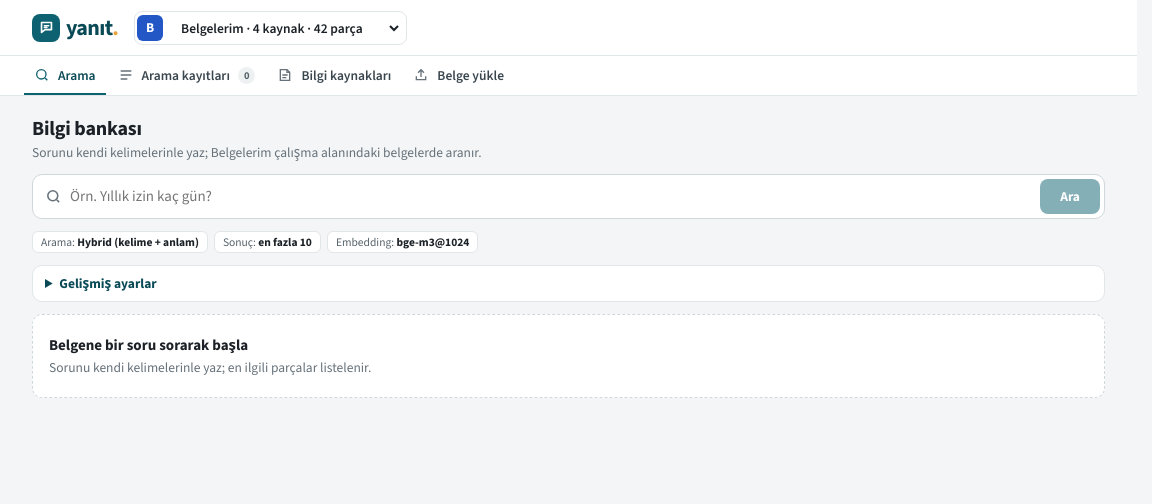
Test: App › givenSearchResult_whenWorkspaceChanged_thenResultIsCleared
In the field named "Arama metni": (551, 196) [70, 180, 1032, 213], type "Yıllık izin kaç gün?"
Then press Enter
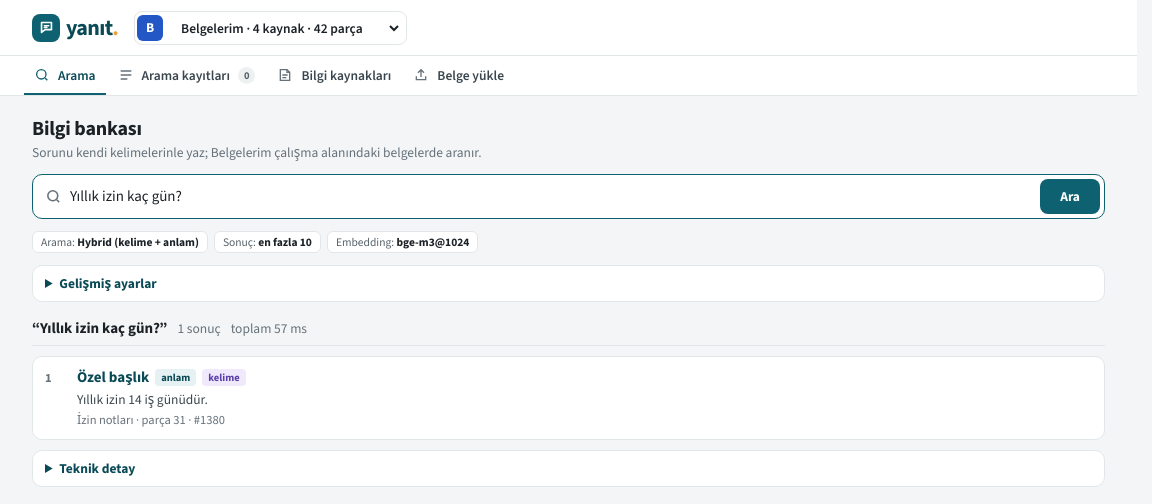
Check: the text "Özel başlık" is shown, box [77, 367, 149, 387]
Select "Deneme alanı · 3 kaynak · 38 parça" in the dropdown named "Çalışma alanı": (287, 28) [171, 14, 402, 42]
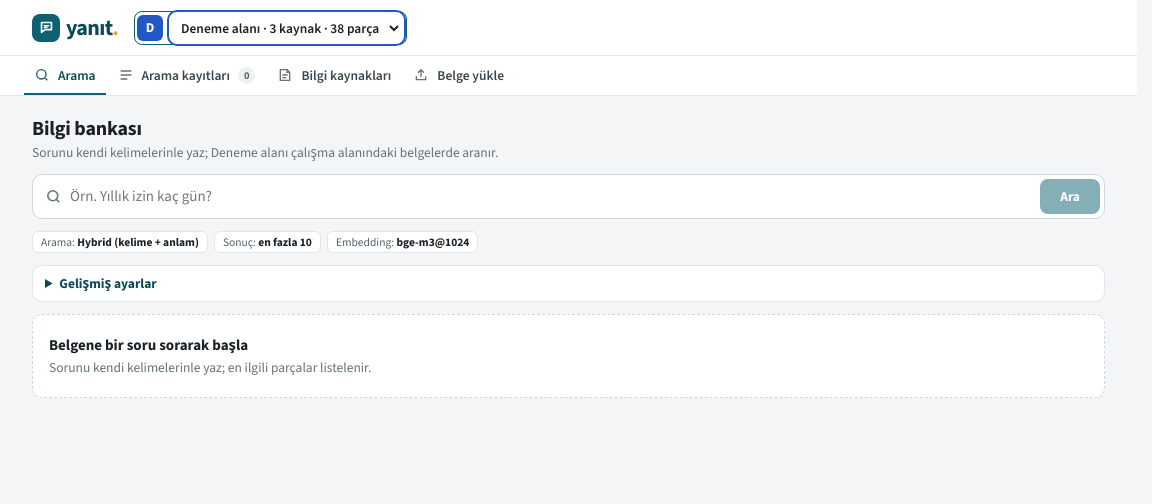
Check: the text "Belgene bir soru sorarak başla" is shown, box [49, 335, 248, 355]
Check: the button "Özel başlık" is gone
Check: the field named "Arama metni" is empty, box [70, 180, 1032, 213]
